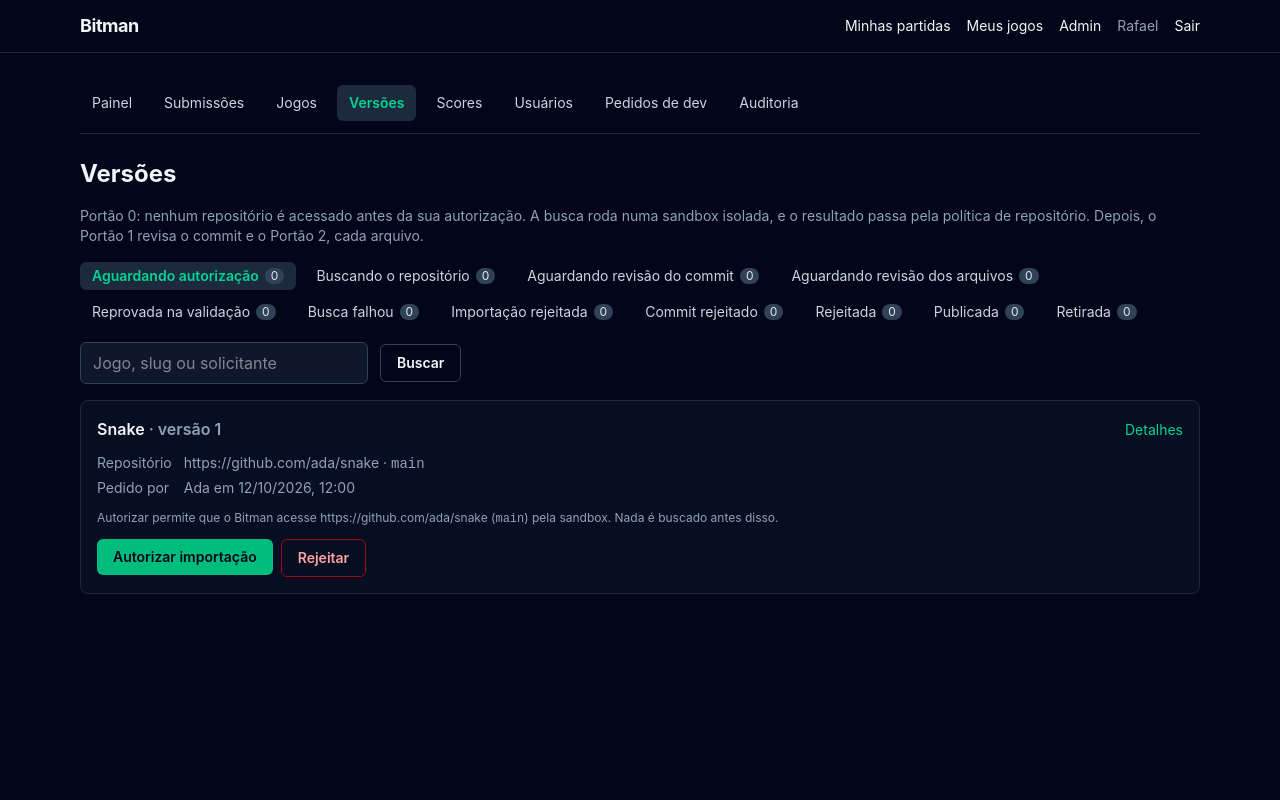
Test: VersionsPage › rejeita com motivo e mostra o erro de validação do servidor
Click the button "Rejeitar": (323, 558) [281, 539, 366, 577]
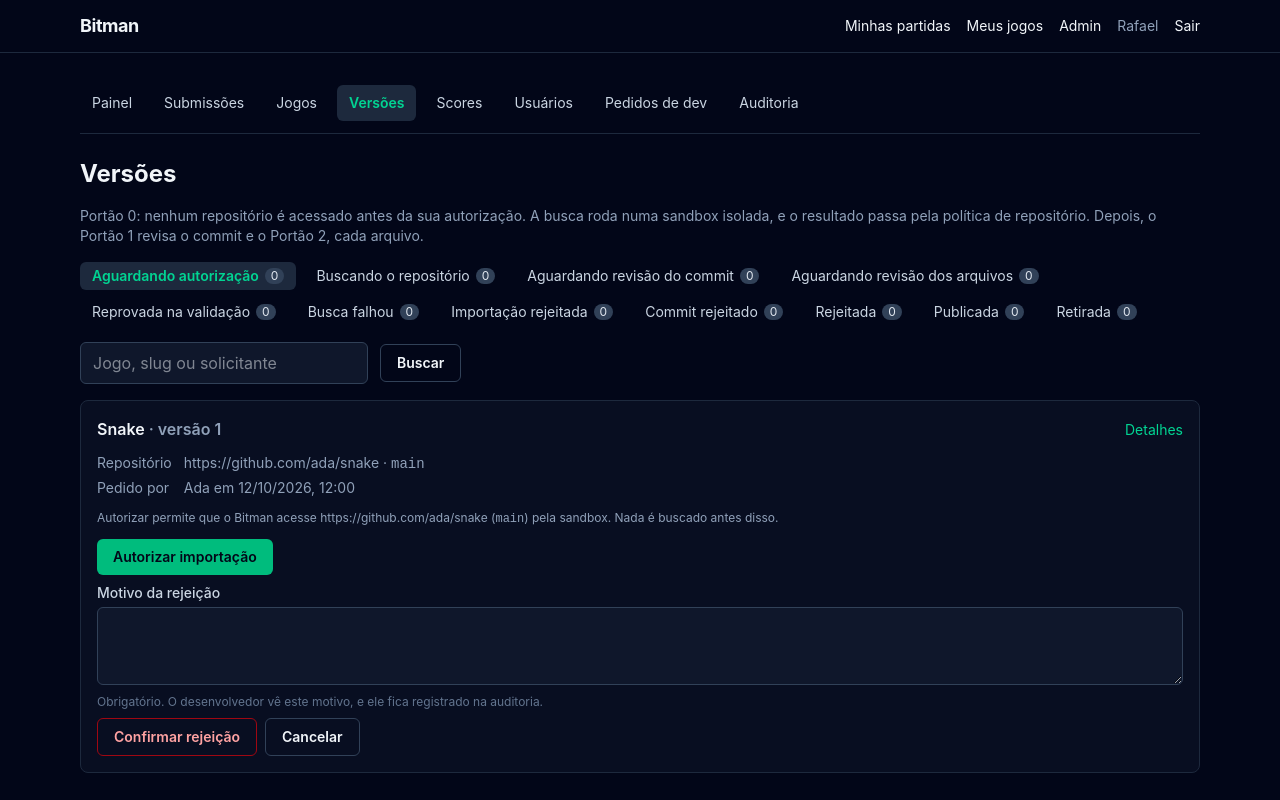
In the text box labelled "Motivo da rejeição": (640, 646) [97, 607, 1183, 685], type "ok"
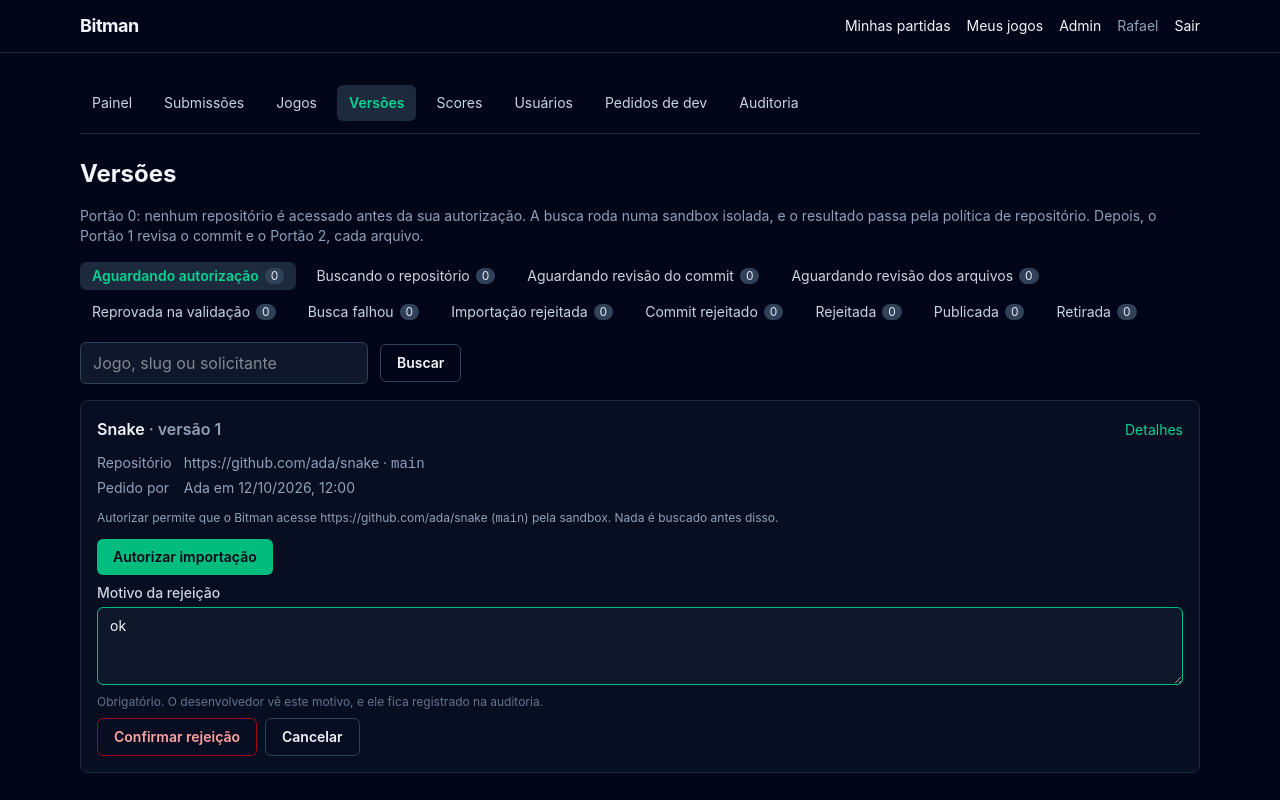
Click the button "Confirmar rejeição": (177, 737) [97, 718, 257, 756]
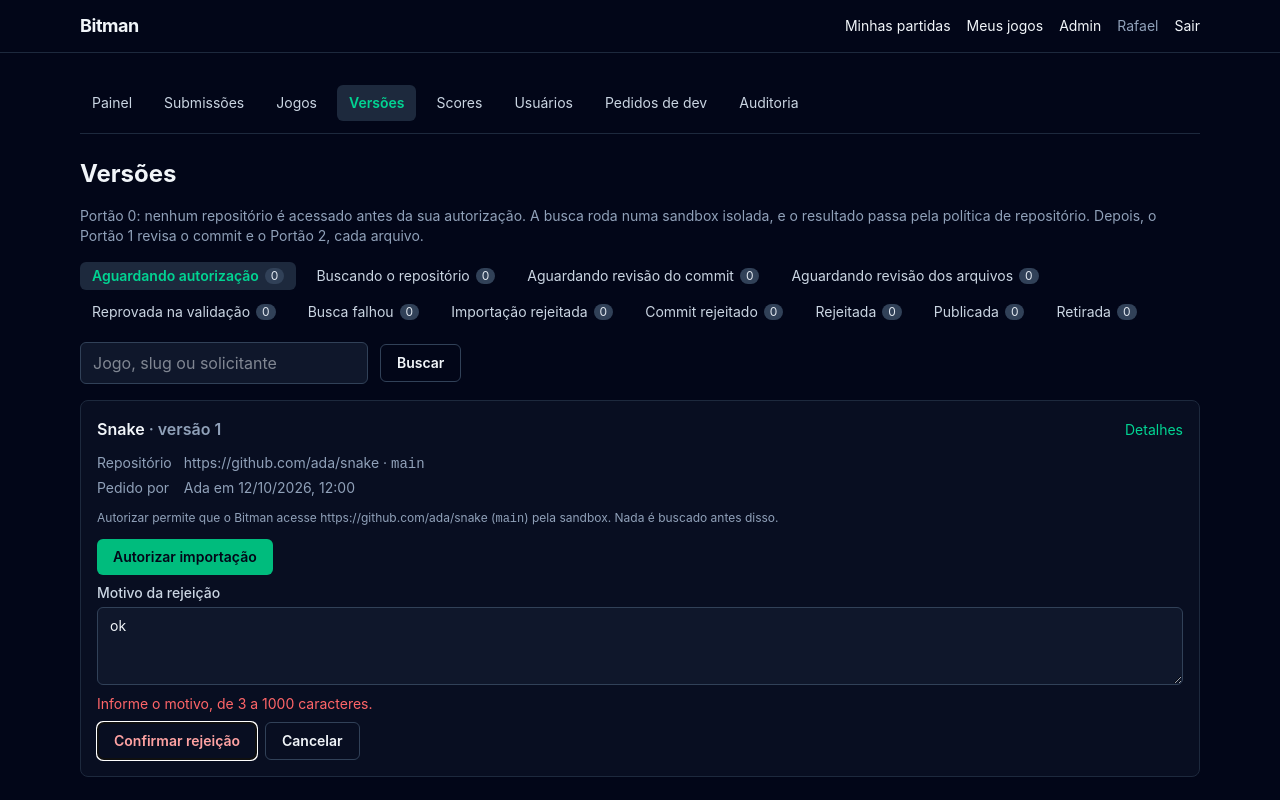
Expected: the text "Informe o motivo, de 3 a 1000 caracteres." is shown, [97, 695, 372, 712]
